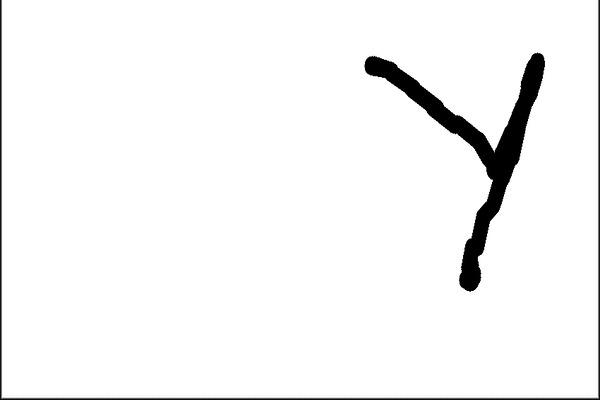Y: (355, 36, 553, 295)
